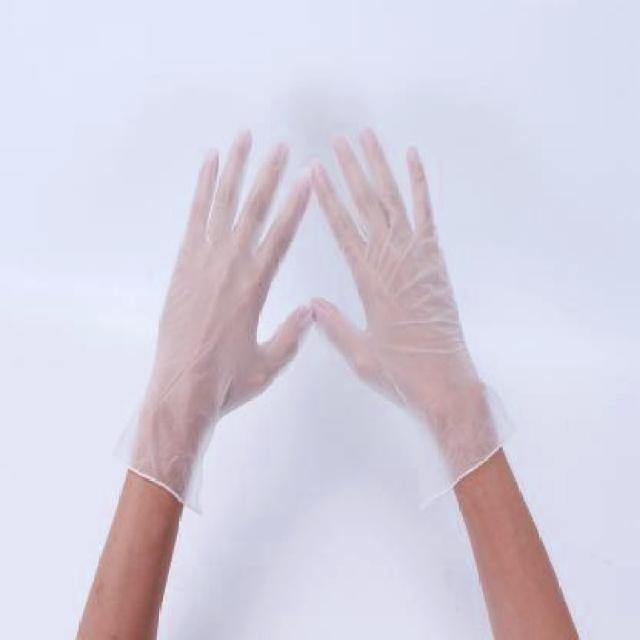hand_glove: (147, 126, 316, 417), (308, 126, 469, 394)
